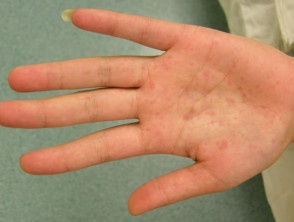SJS-TEN: (104, 9, 294, 198)
